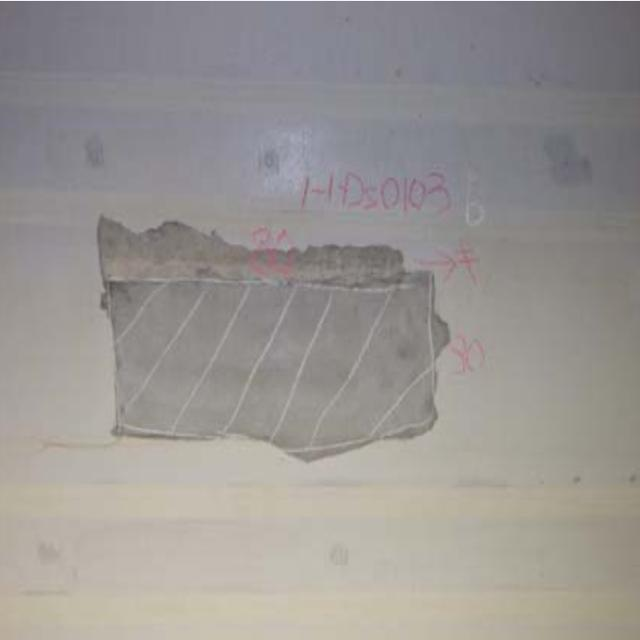spalling: (87, 214, 452, 463)
